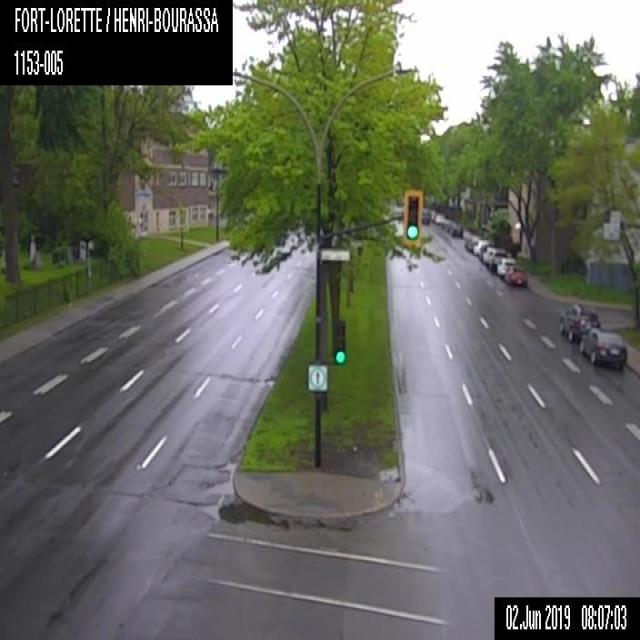vehicle: (580, 329, 626, 372), (559, 302, 602, 342), (482, 246, 507, 266), (504, 265, 524, 288), (496, 256, 516, 275), (472, 238, 490, 255), (464, 233, 479, 250), (450, 221, 463, 236)
